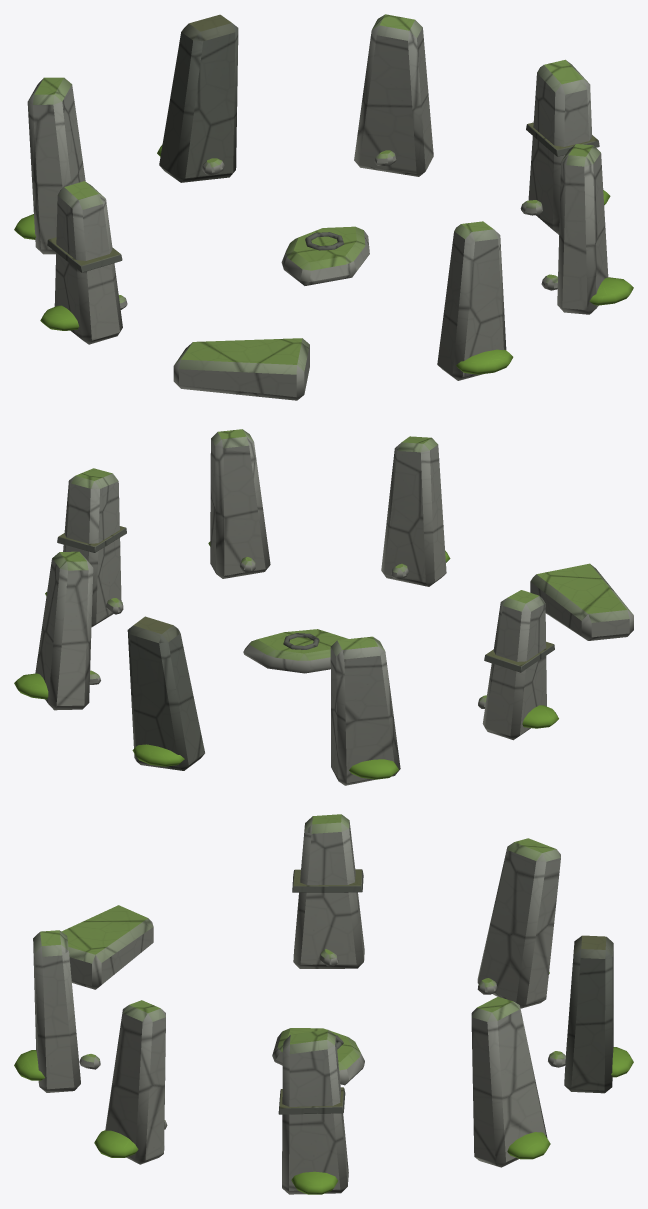
The model's file is stone_circle_ring.glb.
3 views of the same model, one above another, from view 1: azimuth 30°, elevation 25°; view 2: azimuth 150°, elevation 25°; view 3: azimuth 270°, elevation 25° (orthographic). The views are drawn at different scales.
Visible parts, largest first — view 1: stone_circle_ring; view 2: stone_circle_ring; view 3: stone_circle_ring.
Part boxes in pixels (x1,y1,x2,y2): stone_circle_ring: (14,14,633,400); stone_circle_ring: (14,429,633,785); stone_circle_ring: (14,814,633,1194).
Bounding box in the file's own units: 5.24 × 1.43 × 5.15.
3 materials, 3 textured.
